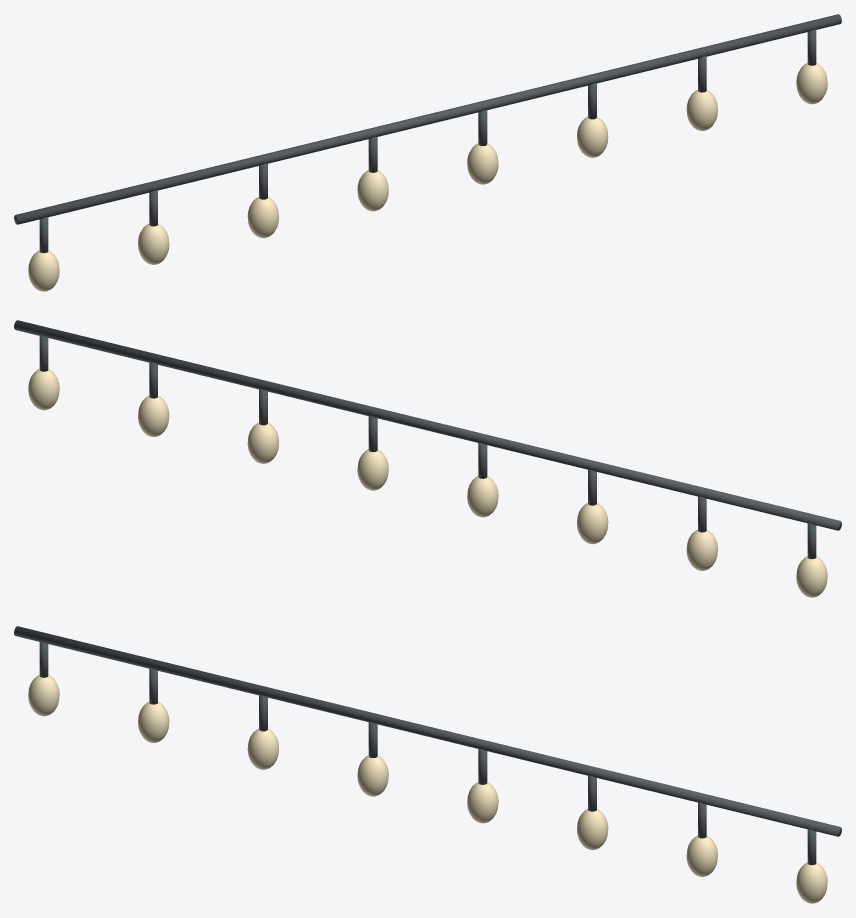
Rendered from atelier-decorative-string-lights.glb.
The picture shows the model from 3 angles, top to bottom: view 1: azimuth 30°, elevation 25°; view 2: azimuth 150°, elevation 25°; view 3: azimuth 330°, elevation 25°; orthographic projection.
Parts seen in each view (by area): view 1: metal.083, bulb.017; view 2: metal.083, bulb.017; view 3: metal.083, bulb.017.
Part boxes in pixels (x1,y1,x2,y2): metal.083: [14, 14, 841, 253]; bulb.017: [28, 63, 827, 291]; metal.083: [14, 320, 841, 559]; bulb.017: [28, 369, 827, 597]; metal.083: [14, 626, 841, 865]; bulb.017: [28, 675, 827, 903].
Size of the model in its own units: 1.5 by 0.143 by 0.05.
